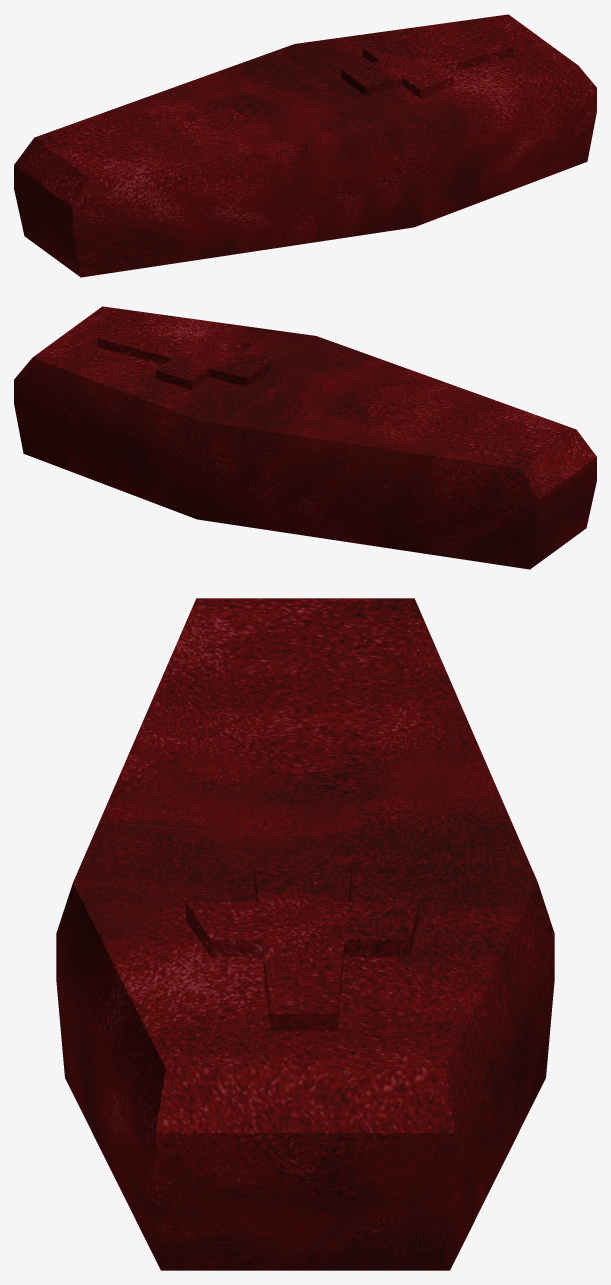
Rendered from Coffin.fbx.
The picture shows the model from 3 angles, top to bottom: view 1: azimuth 30°, elevation 25°; view 2: azimuth 150°, elevation 25°; view 3: azimuth 270°, elevation 25°; orthographic projection. The views are drawn at different scales.
Parts seen in each view (by area): view 1: Coffin; view 2: Coffin; view 3: Coffin.
Part boxes in pixels (x1,y1,x2,y2): Coffin: (14,14,596,277); Coffin: (14,306,596,569); Coffin: (56,598,554,1270).
Size of the model in its own units: 169 by 33.11 by 70.6.
